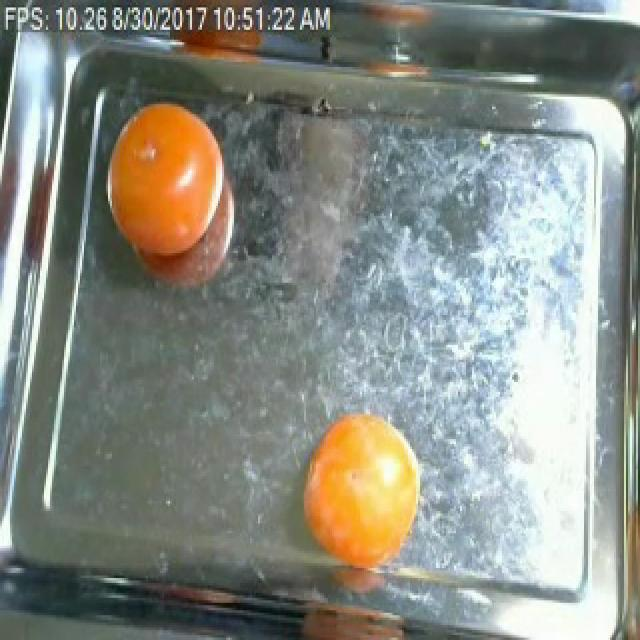Fruit: (94, 82, 230, 288), (288, 394, 436, 583)
